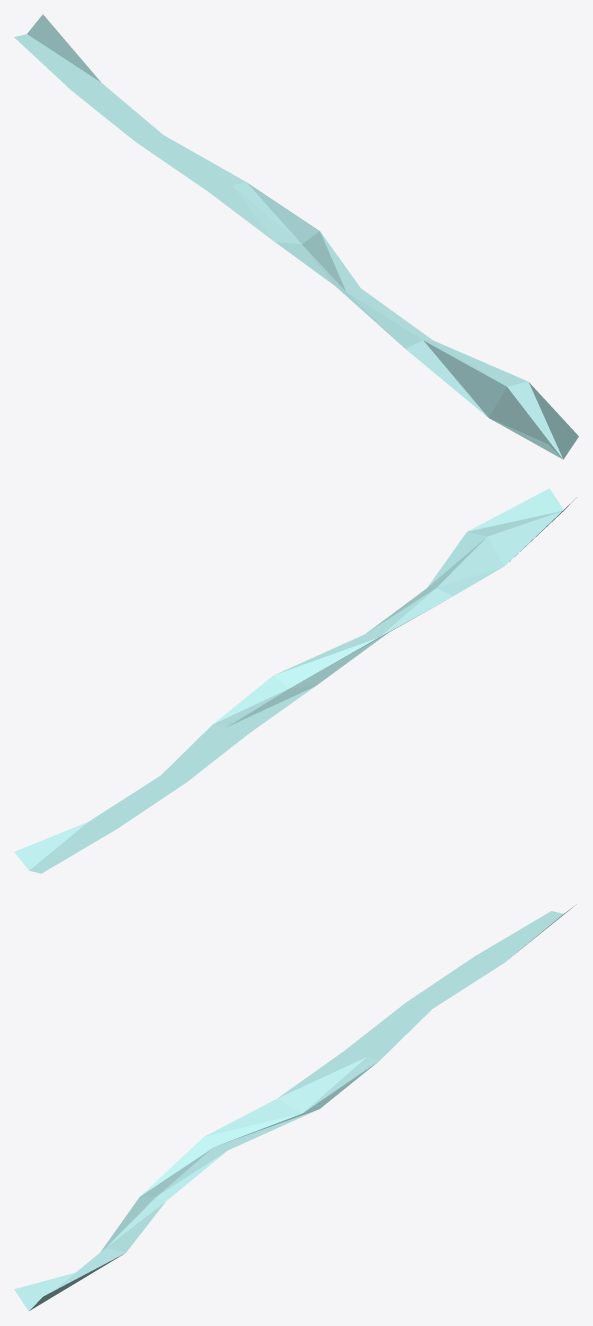
The model's file is current02.fbx.
3 renders of one model, top to bottom at view 1: azimuth 30°, elevation 25°; view 2: azimuth 150°, elevation 25°; view 3: azimuth 330°, elevation 25°, orthographic. The views are drawn at different scales.
Parts seen in each view (by area): view 1: obj0.193; view 2: obj0.193; view 3: obj0.193.
Boxes of the visible parts, x1,y1,x2,y2 form: obj0.193: (14, 14, 578, 459); obj0.193: (14, 488, 576, 873); obj0.193: (14, 904, 576, 1311).
Bounding box in the file's own units: 1.12 × 0.8275 × 19.31.
